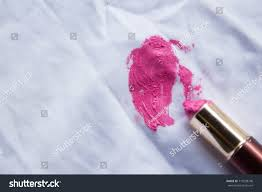kimchi: (124, 37, 200, 130)
